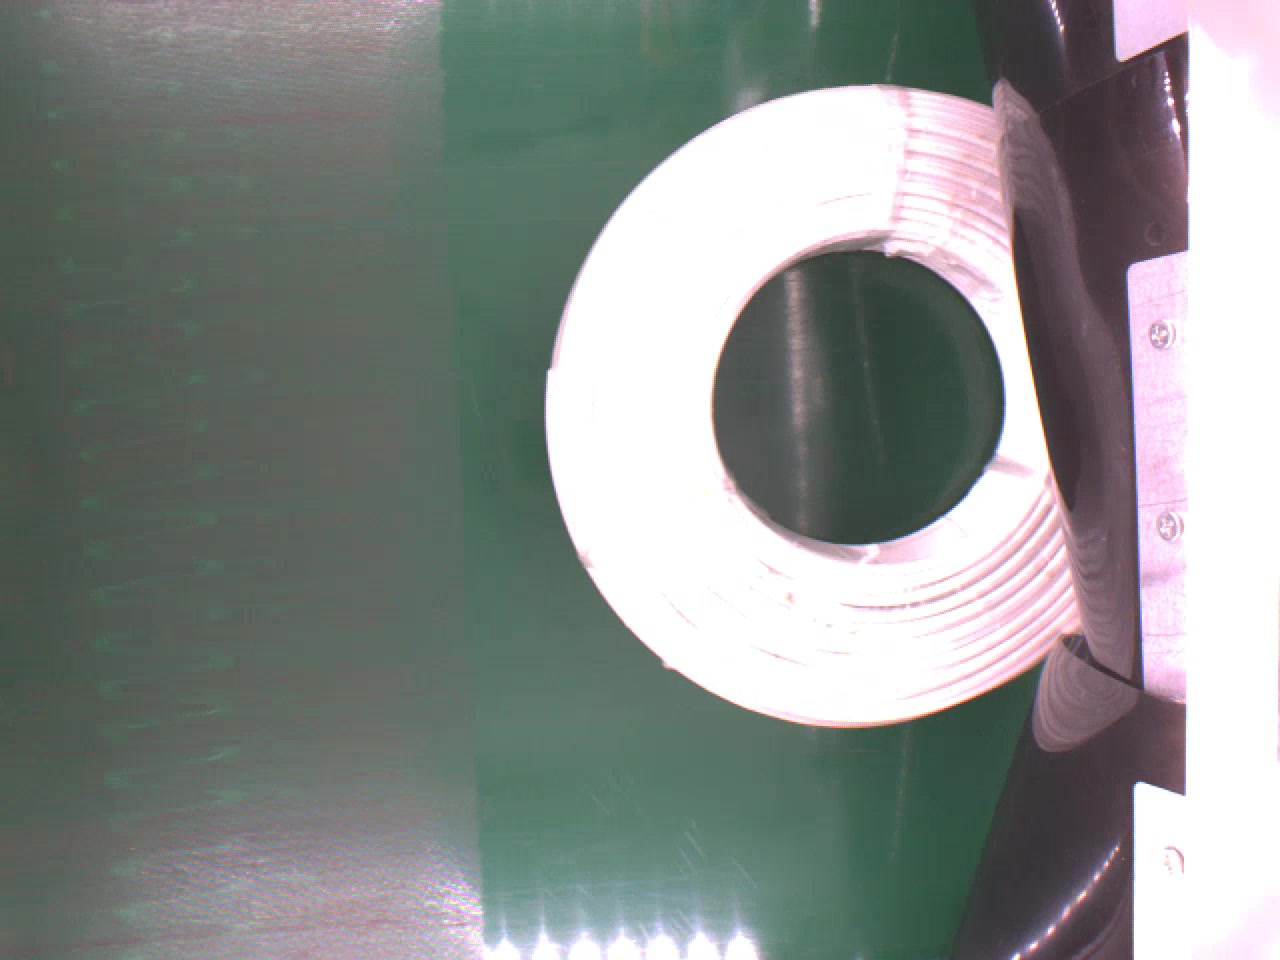white: (543, 80, 1084, 727)
